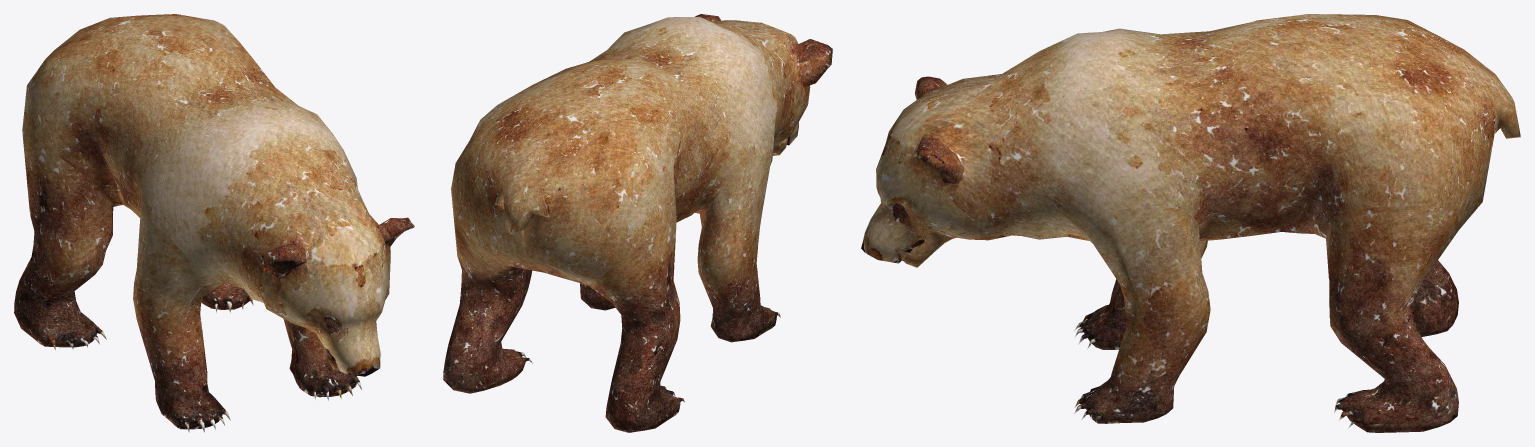
Rendered from bear.gltf.
The picture shows the model from 3 angles, left to right: view 1: azimuth 30°, elevation 25°; view 2: azimuth 150°, elevation 25°; view 3: azimuth 270°, elevation 25°; orthographic projection. The views are drawn at different scales.
Visible parts, largest first — view 1: 动物_熊; view 2: 动物_熊; view 3: 动物_熊.
Boxes of the visible parts, left/top/right/bottom form: 动物_熊: left=14, top=14, right=414, bottom=432; 动物_熊: left=443, top=14, right=832, bottom=432; 动物_熊: left=861, top=14, right=1520, bottom=432.
Size of the model in its own units: 1.15 by 1.55 by 2.65.
1 material, 1 textured.
